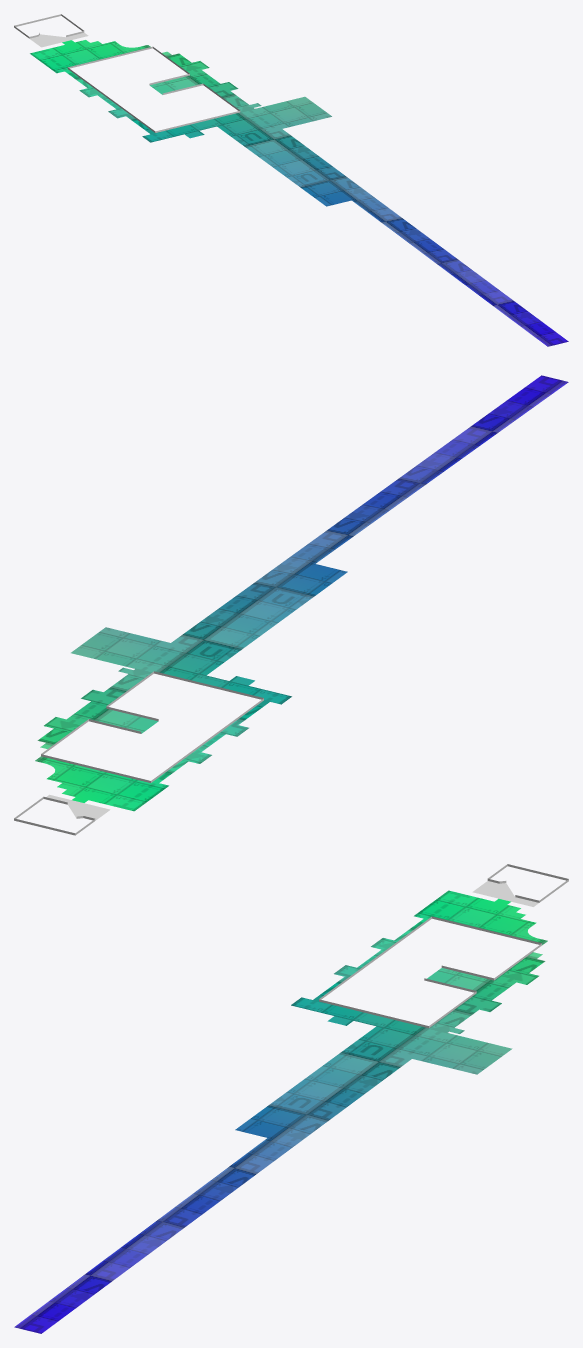
File: Floor4Roof.fbx
The picture shows the model from 3 angles, top to bottom: view 1: azimuth 30°, elevation 25°; view 2: azimuth 150°, elevation 25°; view 3: azimuth 330°, elevation 25°; orthographic projection. The views are drawn at different scales.
Parts seen in each view (by area): view 1: Floor4Roof; view 2: Floor4Roof; view 3: Floor4Roof.
Boxes of the visible parts, box(x1,y1,x2,y2) form: Floor4Roof: box(14, 14, 568, 346); Floor4Roof: box(14, 375, 568, 835); Floor4Roof: box(14, 864, 568, 1333).
Bounding box in the file's own units: 1128 × 30.63 × 5481.
